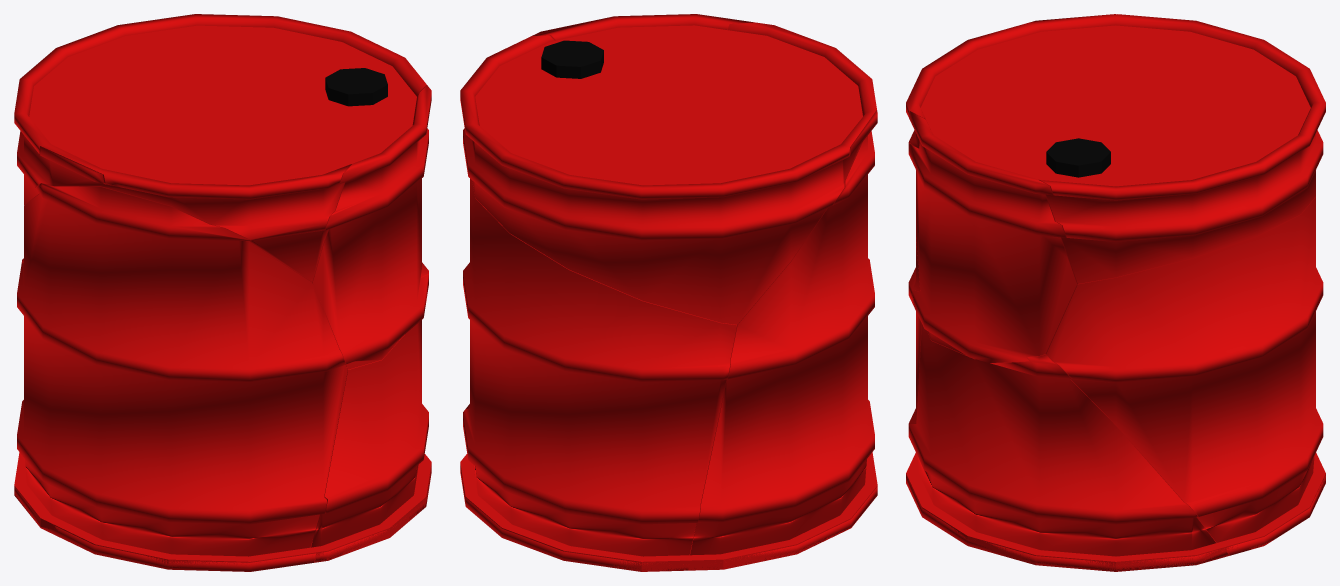
Rendered from BarrelBroken_01.fbx.
The picture shows the model from 3 angles, left to right: view 1: azimuth 30°, elevation 25°; view 2: azimuth 150°, elevation 25°; view 3: azimuth 270°, elevation 25°; orthographic projection.
Visible parts, largest first — view 1: Base_cell.003, Top, Base_cell.005, Base_cell.001, Base_cell.004, Bottom, Pan.001, Base_cell.006; view 2: Base_cell.002, Top, Base_cell.003, Base_cell.005, Bottom, Base_cell.001, Pan.001; view 3: Base_cell.002, Top, Base_cell.004, Base_cell.005, Base_cell.001, Bottom, Pan.001, Base_cell.003.
Boxes of the visible parts, x1=… form: Base_cell.003: x1=14, y1=183, x2=347, y2=571; Top: x1=29, y1=25, x2=416, y2=185; Base_cell.005: x1=14, y1=14, x2=426, y2=283; Base_cell.001: x1=313, y1=85, x2=431, y2=369; Base_cell.004: x1=311, y1=262, x2=431, y2=562; Bottom: x1=14, y1=452, x2=431, y2=567; Pan.001: x1=325, y1=68, x2=387, y2=106; Base_cell.006: x1=40, y1=147, x2=104, y2=183; Base_cell.002: x1=462, y1=178, x2=736, y2=571; Top: x1=475, y1=25, x2=862, y2=185; Base_cell.003: x1=690, y1=131, x2=877, y2=569; Base_cell.005: x1=460, y1=22, x2=876, y2=324; Bottom: x1=460, y1=452, x2=877, y2=571; Base_cell.001: x1=531, y1=14, x2=754, y2=40; Pan.001: x1=541, y1=40, x2=603, y2=78; Base_cell.002: x1=1045, y1=197, x2=1325, y2=555; Top: x1=920, y1=25, x2=1310, y2=186; Base_cell.004: x1=906, y1=324, x2=1229, y2=571; Base_cell.005: x1=906, y1=14, x2=1325, y2=283; Base_cell.001: x1=908, y1=111, x2=1077, y2=362; Bottom: x1=906, y1=452, x2=1325, y2=571; Pan.001: x1=1046, y1=138, x2=1110, y2=177; Base_cell.003: x1=908, y1=237, x2=921, y2=426.
Size of the model in its own units: 200 by 203 by 200.
